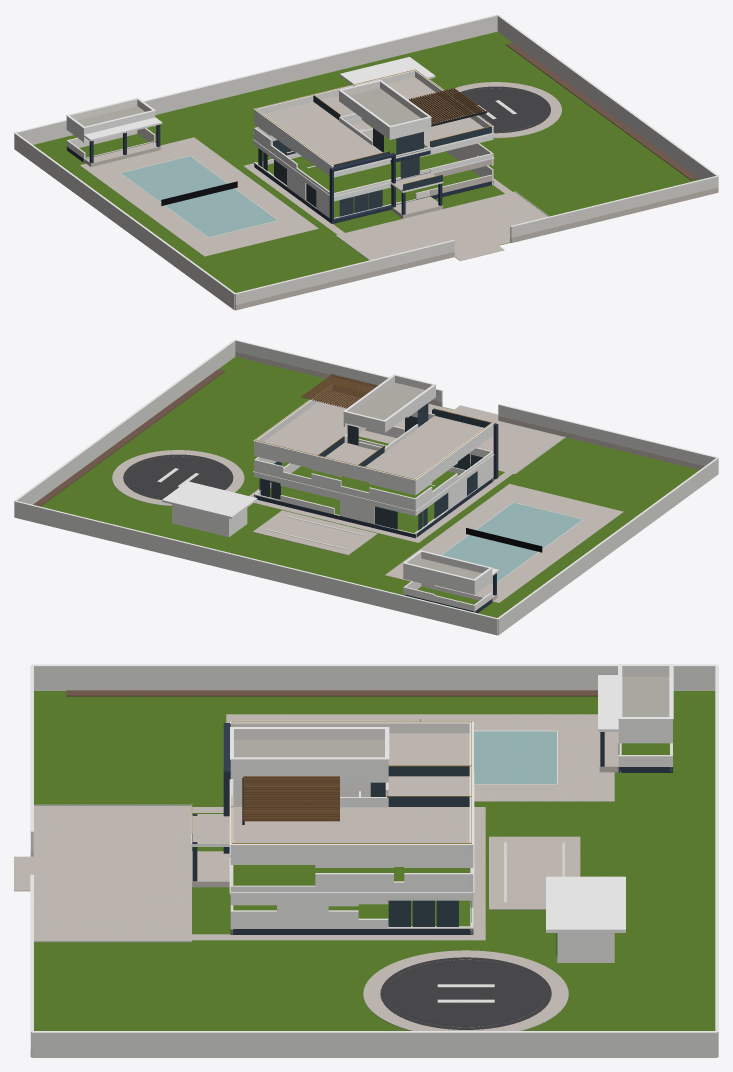
The model's file is est_S9_lod1.glb.
The picture shows the model from 3 angles, top to bottom: view 1: azimuth 30°, elevation 25°; view 2: azimuth 150°, elevation 25°; view 3: azimuth 270°, elevation 25°; orthographic projection. The views are drawn at different scales.
Parts seen in each view (by area): view 1: GR_est_S9_lod1; view 2: GR_est_S9_lod1; view 3: GR_est_S9_lod1.
Part boxes in pixels (bbox=[...]): GR_est_S9_lod1: bbox=[14, 14, 718, 310]; GR_est_S9_lod1: bbox=[14, 339, 718, 635]; GR_est_S9_lod1: bbox=[14, 664, 718, 1057].
Size of the model in its own units: 76.31 by 13.93 by 61.75.
Materials: 4 (1 with a texture image).
